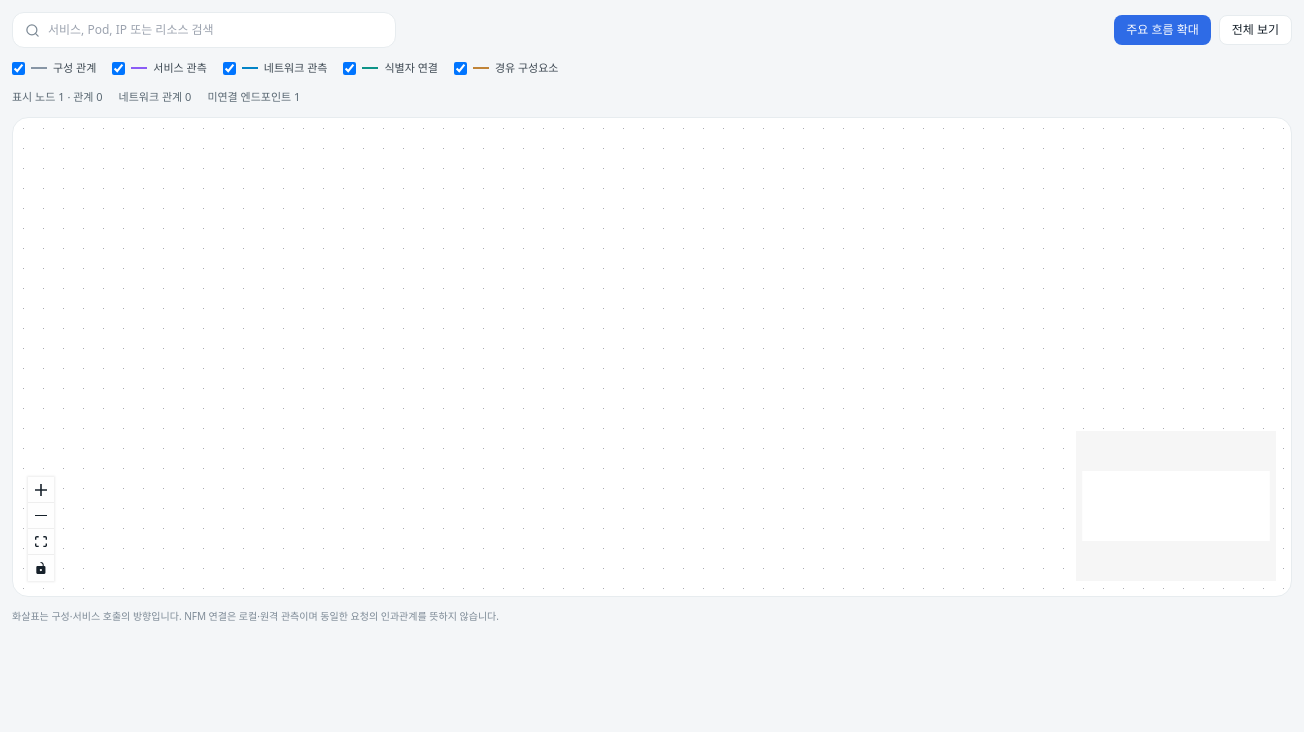
Test: E2eGraphCanvas › searches cyclic metadata safely with the same value matching as graph filtering
The image size is (1304, 732).
Step 1. Type "unique-pod" into the search field → [216, 30], box [48,21,383,39]
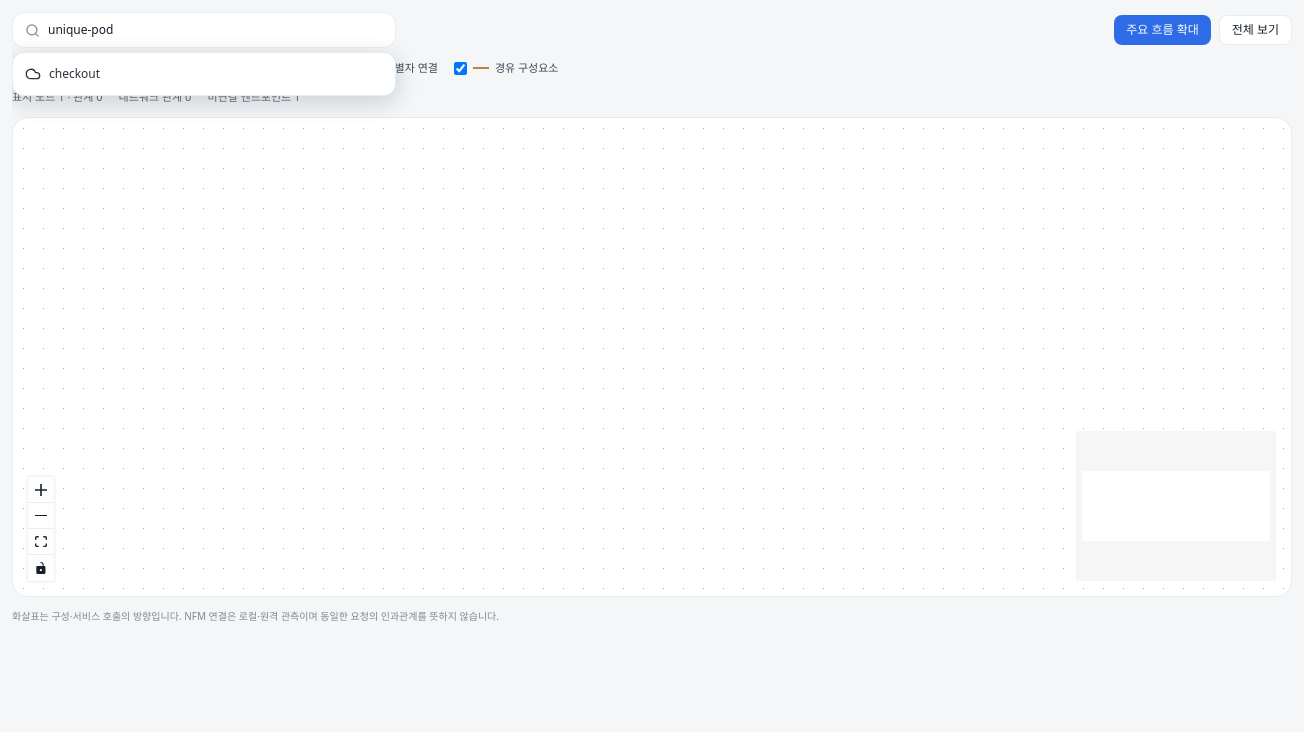
Check: the button with aria-label "선택: checkout" is shown, box [17,57,391,91]
